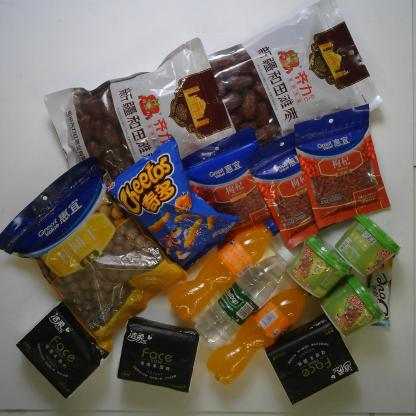Chocolate: (369, 254, 396, 328)
Dried Food: (0, 154, 191, 356), (43, 35, 238, 182), (207, 0, 386, 147)
Dried Fruit: (294, 103, 392, 230), (180, 124, 275, 252), (246, 130, 332, 250)
Drink: (167, 217, 281, 322), (205, 285, 312, 387), (195, 245, 296, 351)
Instant Drink: (284, 233, 353, 301), (318, 272, 386, 340), (333, 212, 401, 278)
Puffed Food: (105, 133, 242, 274)
Tissue: (14, 300, 111, 400), (263, 312, 359, 406), (114, 313, 199, 393)
